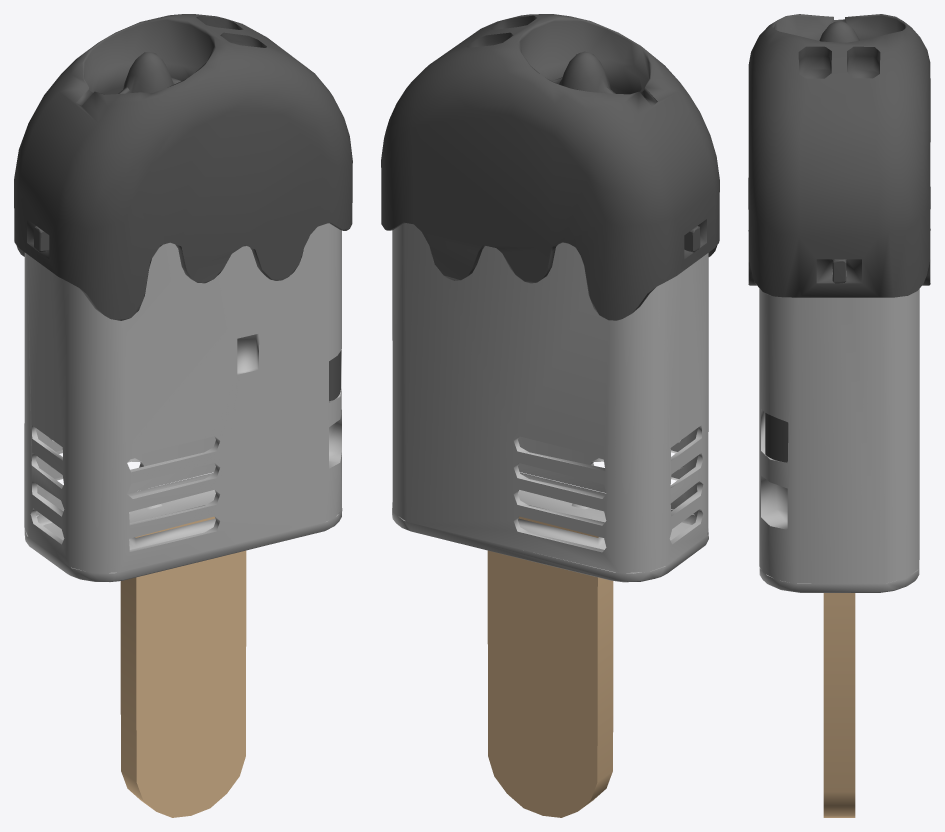
The model's file is Popsicle5G_dummy_decimated.glb.
3 views of the same model, side by side, from view 1: azimuth 30°, elevation 25°; view 2: azimuth 150°, elevation 25°; view 3: azimuth 270°, elevation 25° (orthographic).
Visible parts, largest first — view 1: body, icing, stick, cover; view 2: body, icing, stick, cover; view 3: icing, body, stick, cover, button, cotter.001.
Part boxes in pixels (x1,y1,x2,y2): body: (24, 223, 341, 572); icing: (14, 14, 352, 320); stick: (120, 516, 246, 817); cover: (24, 472, 342, 581); body: (392, 223, 708, 573); icing: (381, 14, 719, 320); stick: (487, 516, 613, 817); cover: (392, 472, 708, 582); icing: (748, 14, 930, 297); body: (759, 269, 919, 583); stick: (823, 593, 855, 817); cover: (759, 567, 919, 592); button: (765, 413, 788, 462); cotter.001: (832, 259, 846, 283).
Bounding box in the file's own units: 91.98 × 232 × 48.98.
